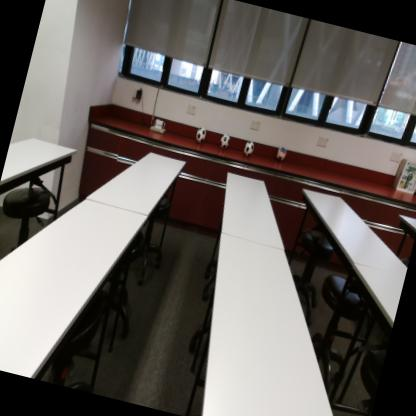ball: (274, 145, 287, 163), (195, 127, 207, 144), (243, 140, 254, 157), (219, 134, 230, 149)
